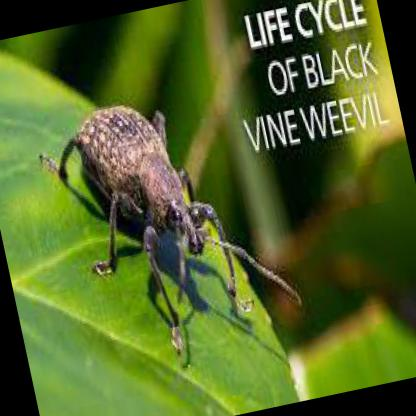ash weevil: (76, 106, 303, 354)
